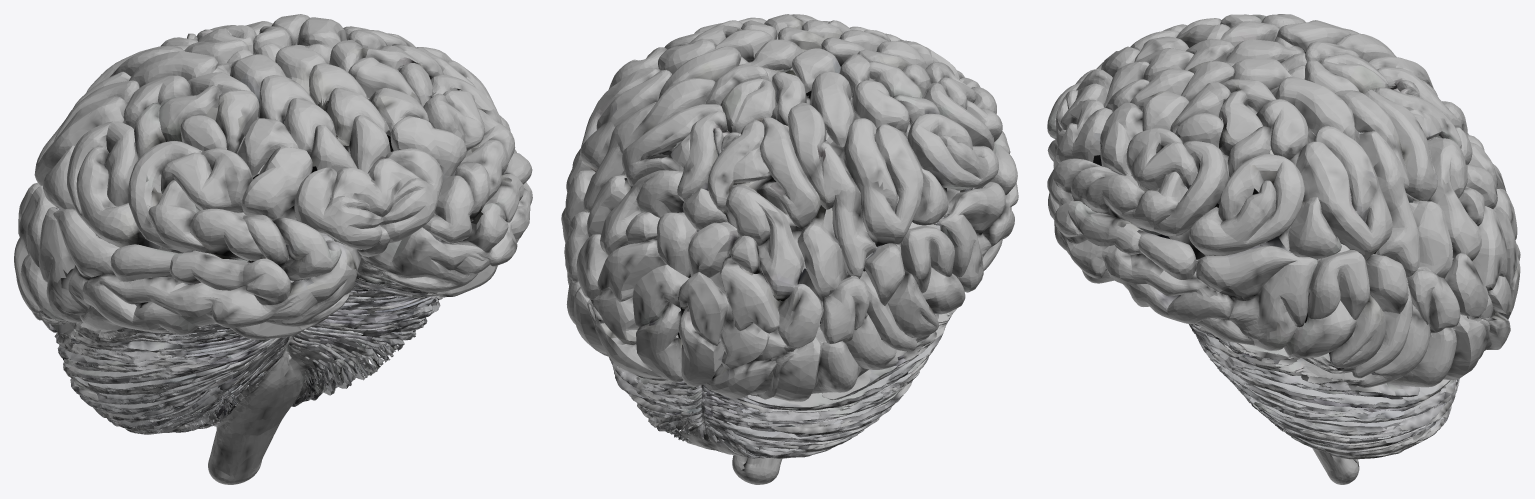
File: brain.glb
3 views of the same model, side by side, from view 1: azimuth 30°, elevation 25°; view 2: azimuth 150°, elevation 25°; view 3: azimuth 270°, elevation 25° (orthographic). The views are drawn at different scales.
Parts seen in each view (by area): view 1: tripo_node_bfce9ef6-7bc8-405b-8614-b1800f5752c6; view 2: tripo_node_bfce9ef6-7bc8-405b-8614-b1800f5752c6; view 3: tripo_node_bfce9ef6-7bc8-405b-8614-b1800f5752c6.
Part boxes in pixels (x1,y1,x2,y2): tripo_node_bfce9ef6-7bc8-405b-8614-b1800f5752c6: (14, 14, 532, 484); tripo_node_bfce9ef6-7bc8-405b-8614-b1800f5752c6: (561, 14, 1018, 484); tripo_node_bfce9ef6-7bc8-405b-8614-b1800f5752c6: (1047, 14, 1520, 484).
Bounding box in the file's own units: 0.9985 × 0.999 × 1.
Materials: 1 (1 with a texture image).
